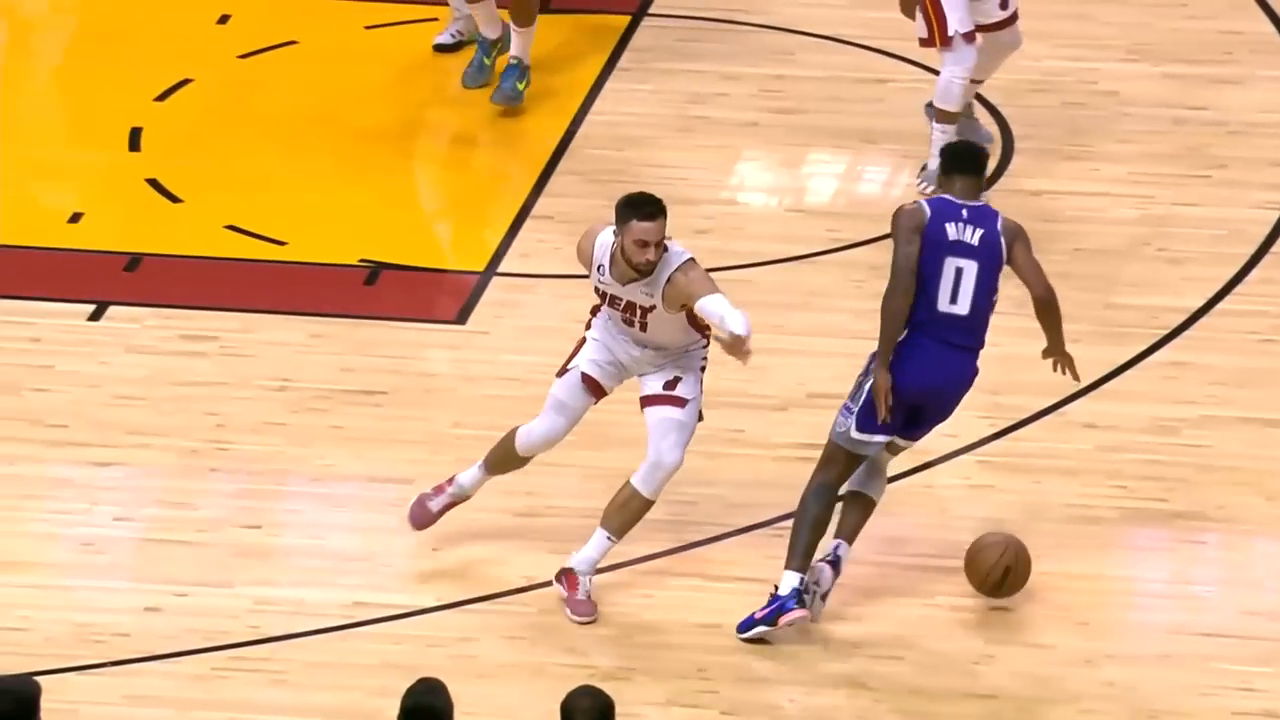ball: (954, 522, 1042, 612)
